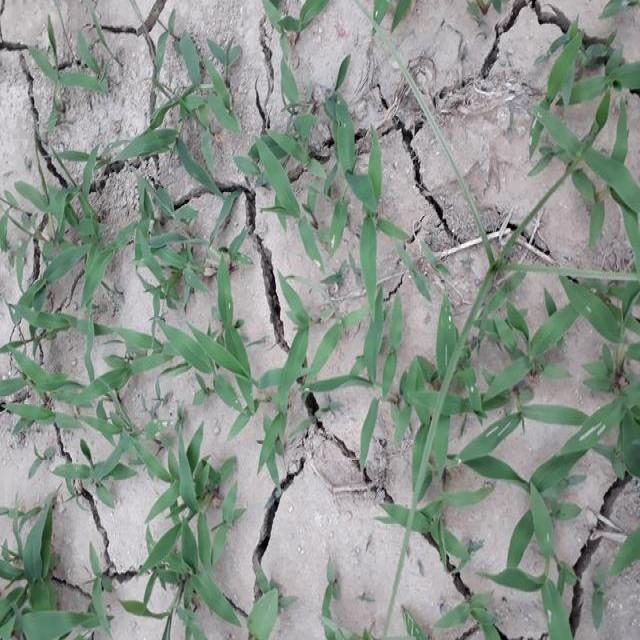weed: (0, 296, 243, 640), (407, 258, 640, 600), (235, 81, 398, 279), (526, 22, 640, 220), (0, 172, 203, 280)
